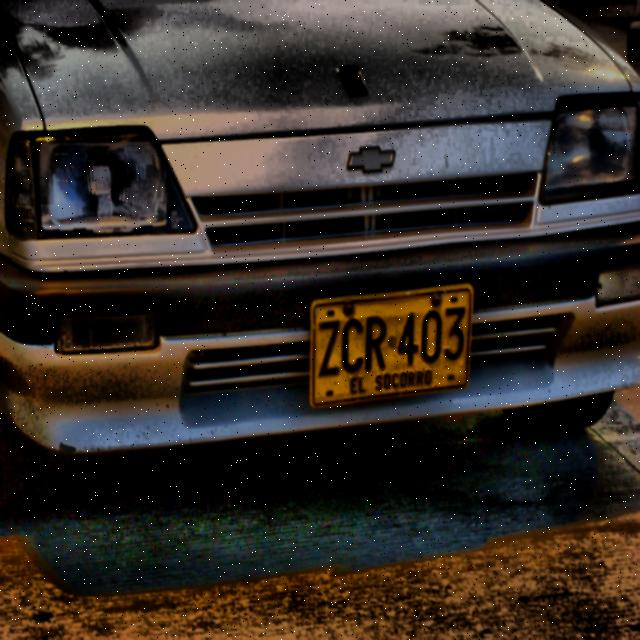plate: (313, 288, 470, 408)
